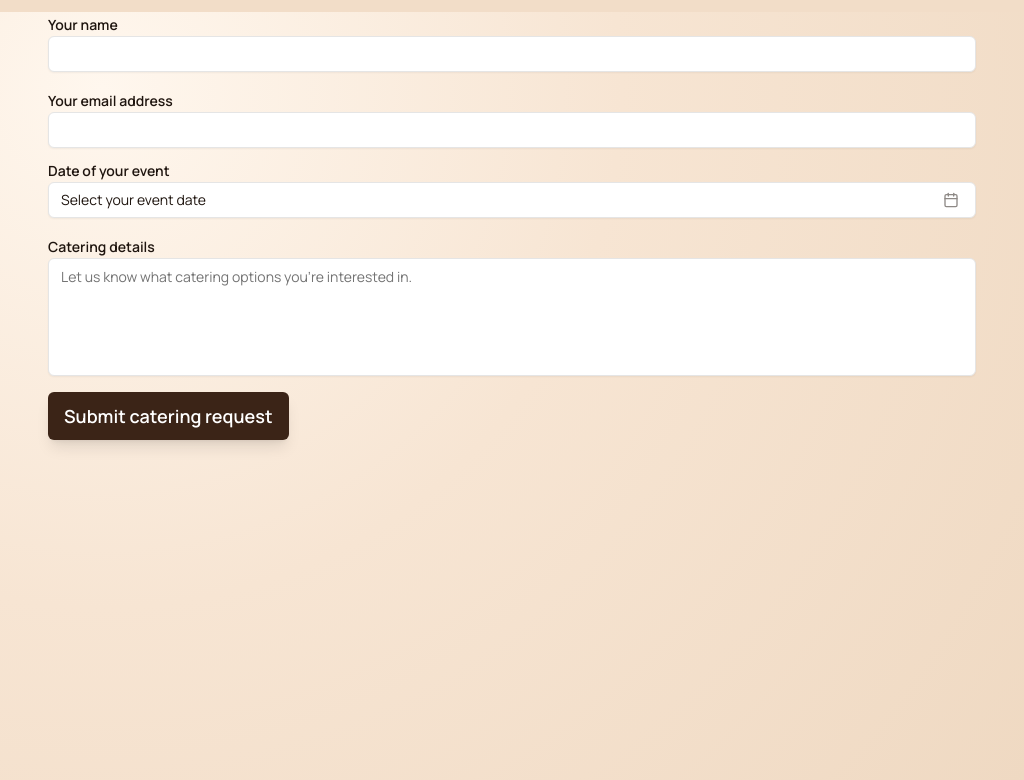
CateringForm › shows validation errors when required fields are missing
Click the button "Submit catering request" at (168, 416), box [48,392,289,440]
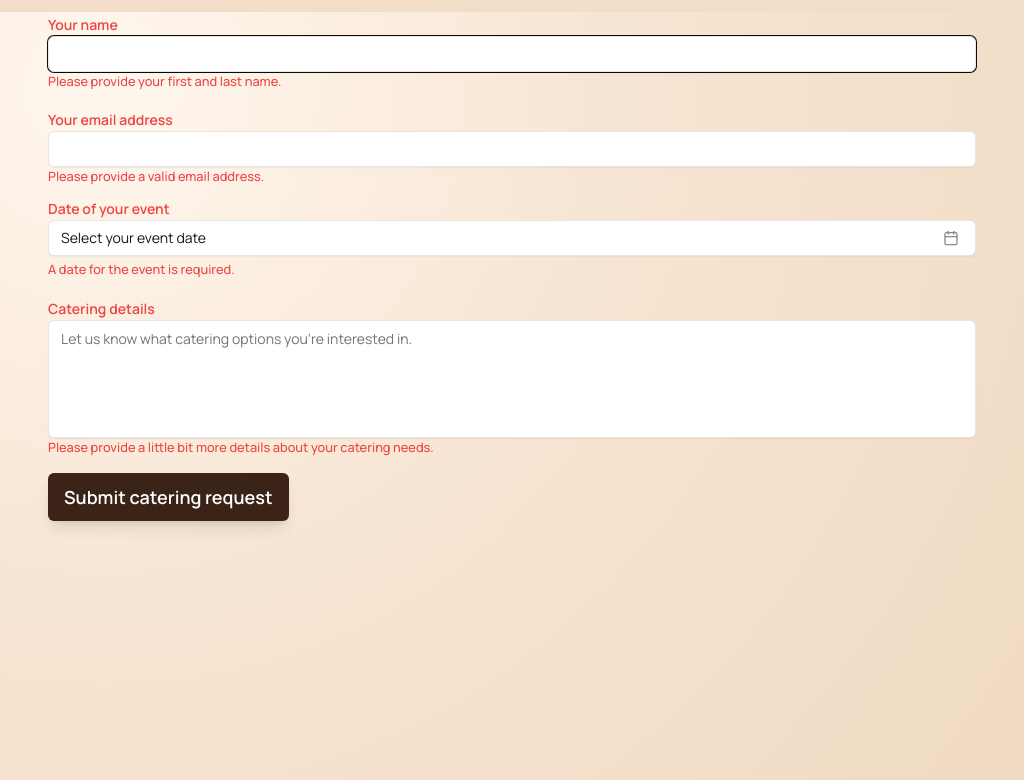
Check: the text "Please provide your first and last name." is shown, box [48,72,281,90]
Check: the text "Please provide a valid email address." is shown, box [48,167,264,185]
Check: the text "A date for the event is required." is shown, box [48,260,235,278]
